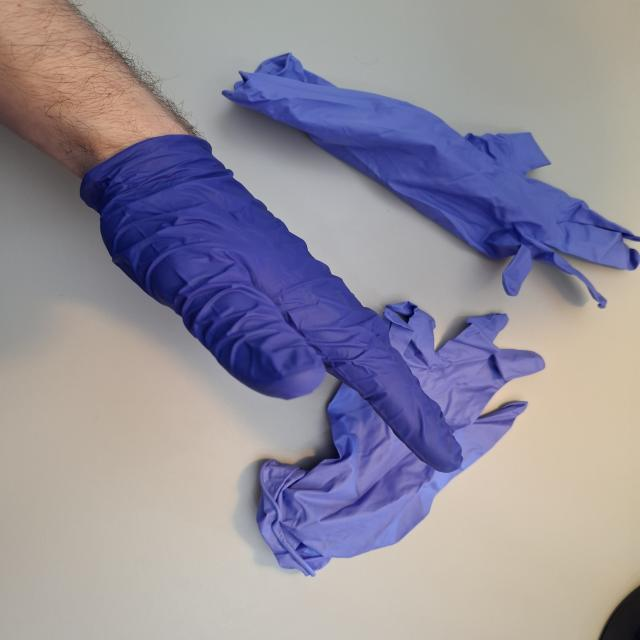glove_on: (77, 128, 465, 473)
